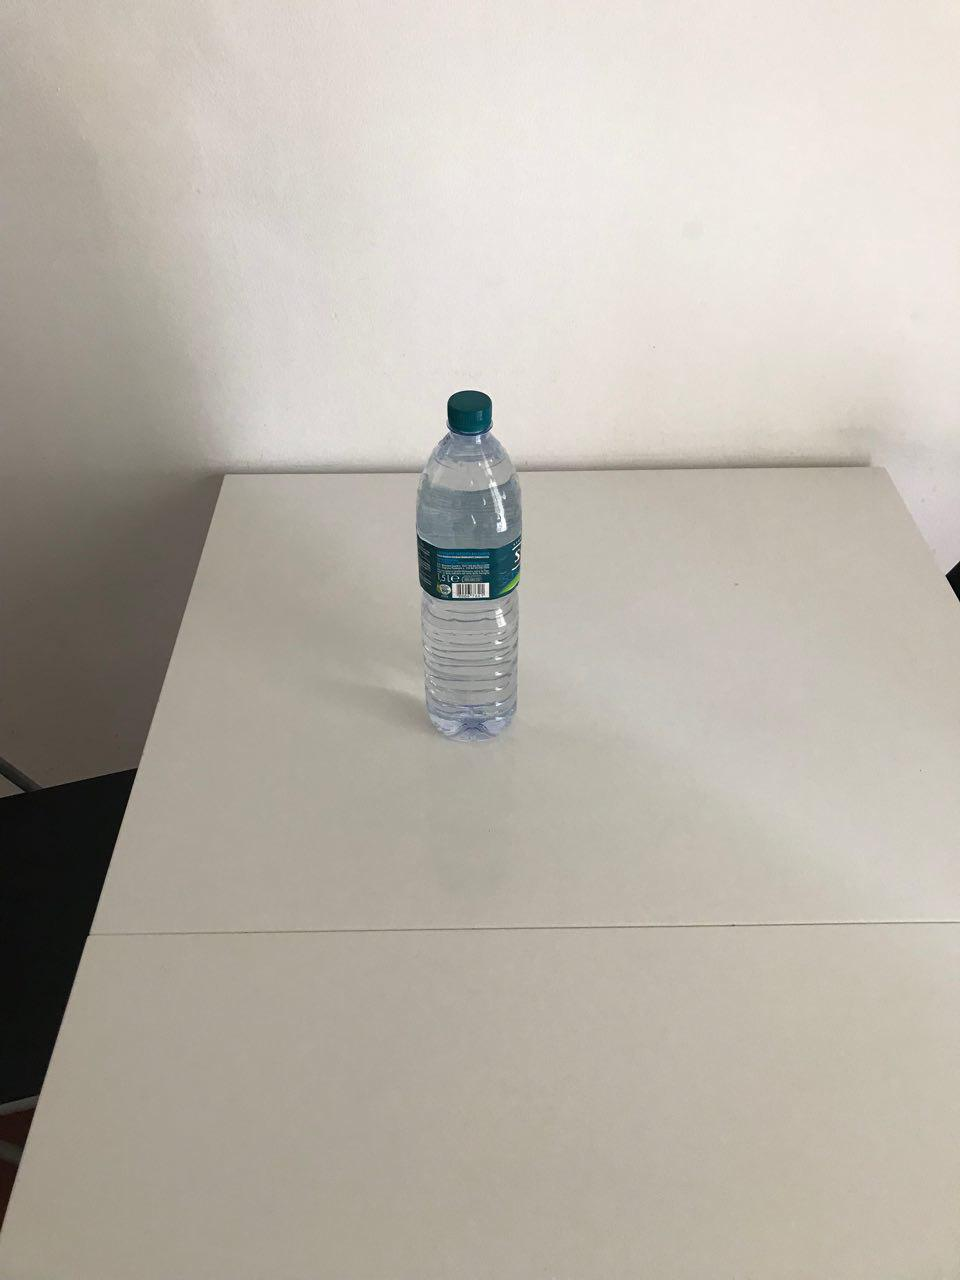san_bernardo: (414, 388, 524, 747)
